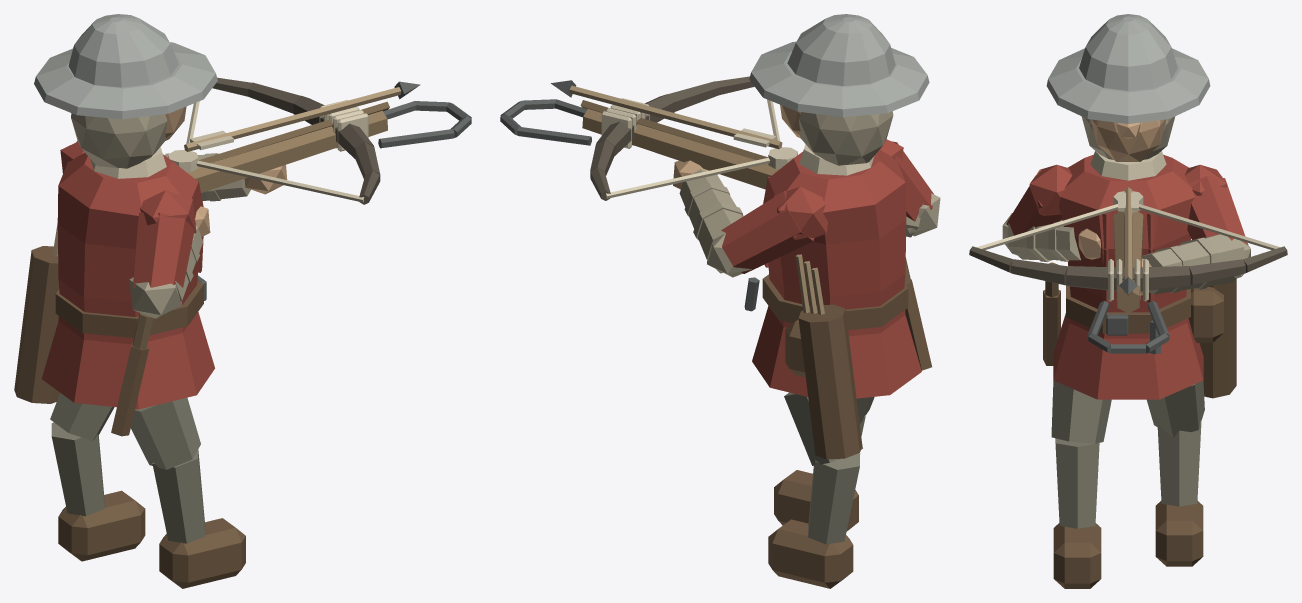
The model's file is infantry_crossbow.glb.
3 views of the same model, side by side, from view 1: azimuth 30°, elevation 25°; view 2: azimuth 150°, elevation 25°; view 3: azimuth 270°, elevation 25° (orthographic). The views are drawn at different scales.
Visible parts, largest first — view 1: infantry_crossbow_team_cloth, infantry_crossbow_leather, infantry_crossbow_steel, infantry_crossbow_hose, infantry_crossbow_padded_linen, infantry_crossbow_linen, infantry_crossbow_oak, infantry_crossbow_bow_horn, infantry_crossbow_iron, infantry_crossbow_oak_light, infantry_crossbow_oak_dark, infantry_crossbow_skin; view 2: infantry_crossbow_team_cloth, infantry_crossbow_leather, infantry_crossbow_steel, infantry_crossbow_padded_linen, infantry_crossbow_hose, infantry_crossbow_linen, infantry_crossbow_oak, infantry_crossbow_bow_horn, infantry_crossbow_oak_light, infantry_crossbow_iron, infantry_crossbow_oak_dark, infantry_crossbow_skin; view 3: infantry_crossbow_team_cloth, infantry_crossbow_leather, infantry_crossbow_steel, infantry_crossbow_hose, infantry_crossbow_padded_linen, infantry_crossbow_bow_horn, infantry_crossbow_linen, infantry_crossbow_skin, infantry_crossbow_iron, infantry_crossbow_oak, infantry_crossbow_oak_light.
Boxes of the visible parts, x1,y1,x2,y2 form: infantry_crossbow_team_cloth: (42, 140, 214, 409); infantry_crossbow_leather: (14, 246, 245, 588); infantry_crossbow_steel: (34, 14, 217, 119); infantry_crossbow_hose: (50, 393, 205, 543); infantry_crossbow_padded_linen: (71, 113, 250, 318); infantry_crossbow_linen: (90, 100, 368, 202); infantry_crossbow_oak: (187, 110, 387, 192); infantry_crossbow_bow_horn: (212, 77, 380, 204); infantry_crossbow_iron: (197, 81, 471, 300); infantry_crossbow_oak_light: (52, 87, 410, 256); infantry_crossbow_oak_dark: (132, 101, 389, 349); infantry_crossbow_skin: (164, 106, 287, 236); infantry_crossbow_team_cloth: (721, 139, 933, 398); infantry_crossbow_leather: (762, 274, 931, 588); infantry_crossbow_steel: (749, 14, 929, 117); infantry_crossbow_padded_linen: (679, 111, 940, 277); infantry_crossbow_hose: (784, 392, 874, 544); infantry_crossbow_linen: (601, 98, 874, 198); infantry_crossbow_oak: (582, 109, 779, 189); infantry_crossbow_bow_horn: (590, 76, 754, 200); infantry_crossbow_oak_light: (560, 85, 824, 314); infantry_crossbow_iron: (500, 80, 759, 311); infantry_crossbow_oak_dark: (580, 100, 910, 284); infantry_crossbow_skin: (673, 104, 801, 189); infantry_crossbow_team_cloth: (1006, 154, 1248, 399); infantry_crossbow_leather: (1043, 279, 1236, 588); infantry_crossbow_steel: (1046, 14, 1210, 123); infantry_crossbow_hose: (1051, 380, 1204, 528); infantry_crossbow_padded_linen: (1002, 116, 1250, 294); infantry_crossbow_bow_horn: (969, 246, 1287, 291); infantry_crossbow_linen: (977, 151, 1279, 301); infantry_crossbow_skin: (1078, 119, 1166, 295); infantry_crossbow_iron: (1087, 277, 1169, 354); infantry_crossbow_oak: (1113, 211, 1143, 313); infantry_crossbow_oak_light: (1124, 187, 1132, 293).
Size of the model in its own units: 1.45 by 1.83 by 0.9989.
